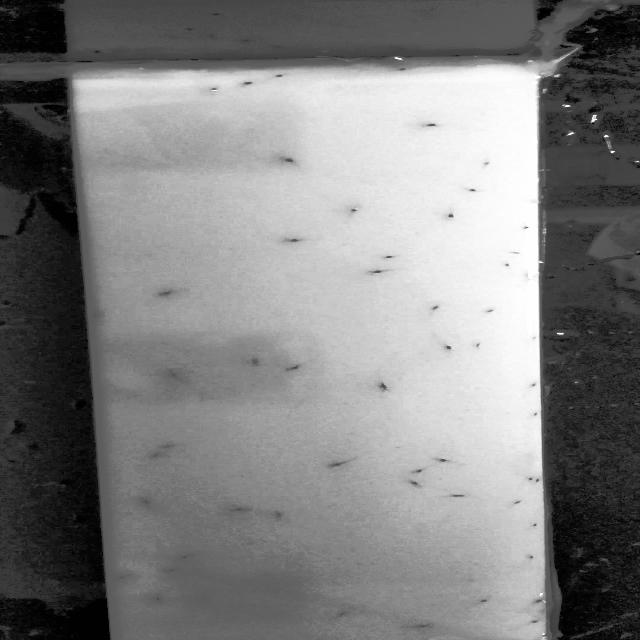shrimp: (415, 462, 439, 476), (325, 457, 358, 467), (373, 376, 392, 391), (432, 456, 467, 464), (236, 76, 257, 89), (164, 437, 185, 450), (436, 494, 474, 501), (143, 593, 165, 605), (142, 450, 168, 460), (172, 552, 193, 562), (85, 310, 103, 321), (222, 506, 254, 512), (279, 156, 298, 166), (370, 268, 389, 278), (503, 248, 522, 258), (420, 123, 443, 131), (405, 477, 423, 487), (138, 494, 153, 506), (280, 238, 302, 246), (377, 252, 399, 260), (426, 303, 439, 316), (288, 365, 312, 372), (159, 566, 182, 573), (472, 160, 492, 168), (463, 186, 483, 194), (154, 290, 174, 298), (268, 70, 287, 78), (166, 369, 179, 380), (442, 210, 461, 217), (396, 65, 414, 72), (347, 206, 367, 212), (486, 306, 498, 316), (271, 511, 287, 518), (332, 610, 348, 617), (207, 84, 220, 92), (416, 623, 432, 629), (499, 261, 512, 268), (523, 474, 533, 483), (114, 573, 124, 582), (443, 343, 454, 351), (248, 359, 259, 367), (532, 477, 543, 485), (510, 498, 522, 505), (532, 598, 546, 604), (528, 553, 536, 562), (528, 382, 538, 389), (479, 598, 491, 603), (198, 594, 205, 602), (469, 344, 480, 349), (528, 522, 537, 528), (526, 618, 536, 623), (530, 413, 537, 418)
